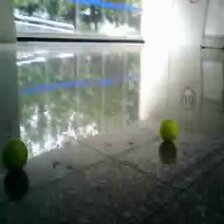tennis: (1, 137, 27, 170), (160, 120, 178, 140)
